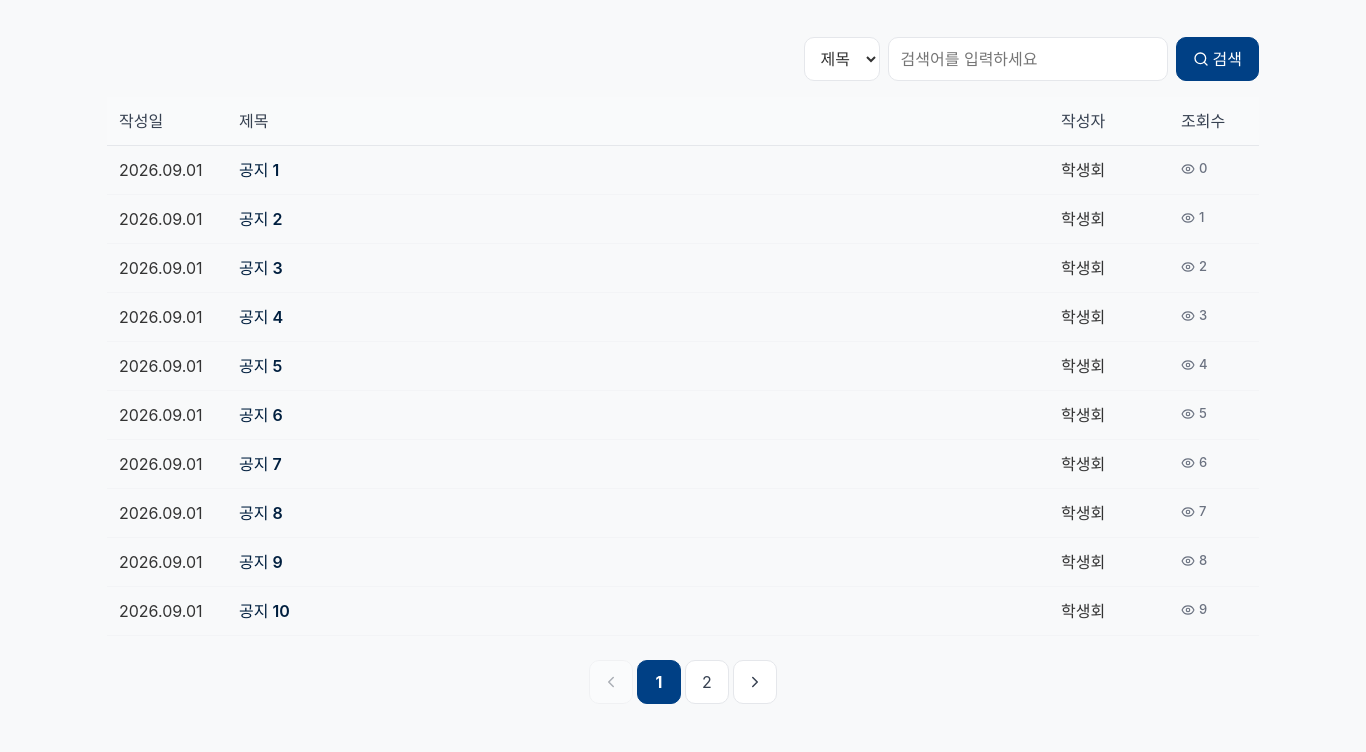
Test case: NoticePage › search by title resets to page 1
(page scrolled)
Click the button "2" at (707, 682), box [685,660,729,704]
(page scrolled)
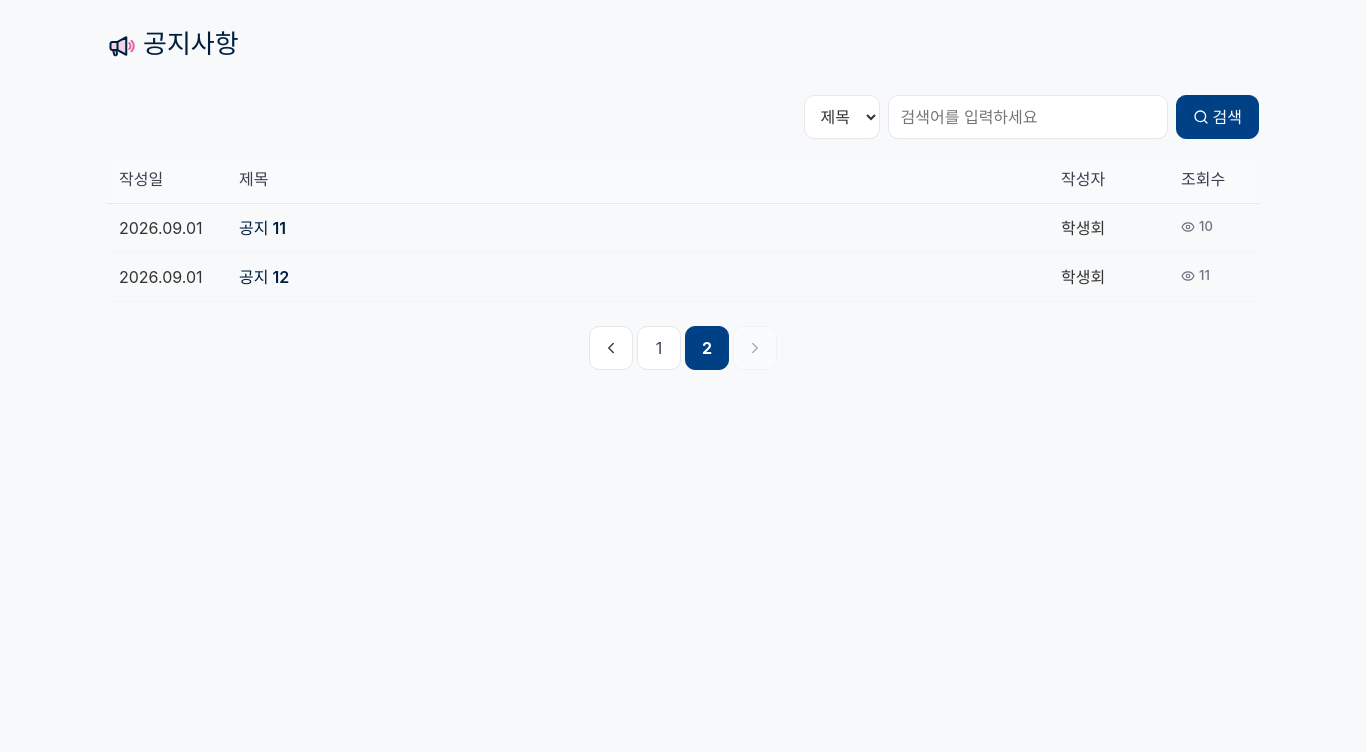
Type "공지 1" into the field with placeholder "검색어를 입력하세요" at (1028, 117), box [888,95,1168,139]
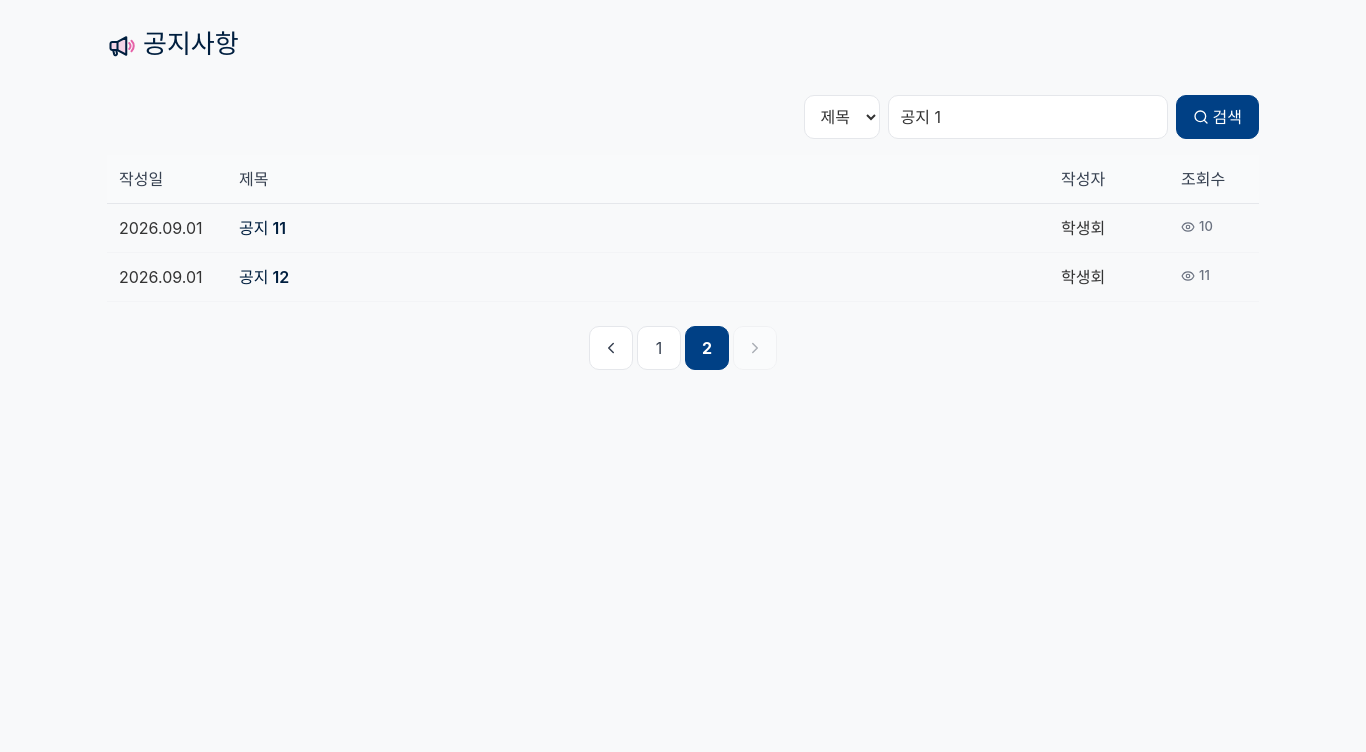
Click the button "검색" at (1217, 117), box [1176,95,1259,139]
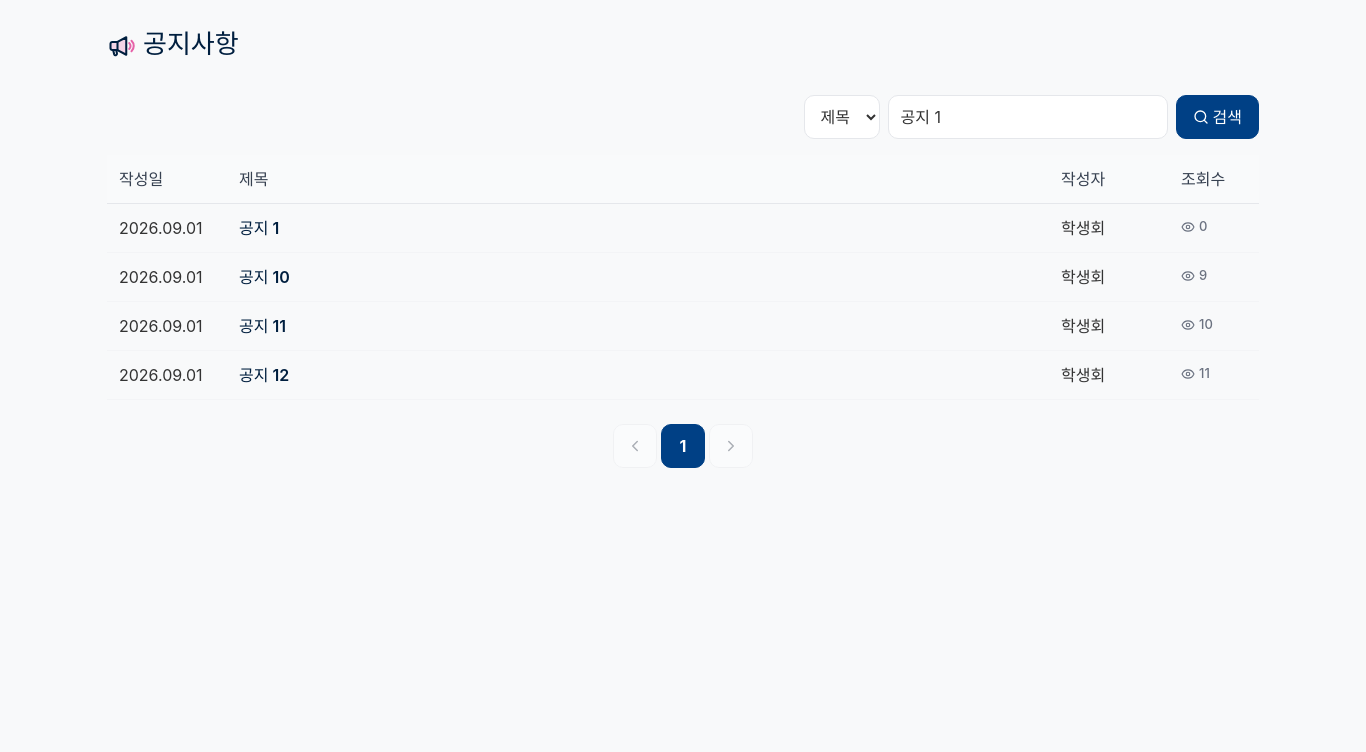
Now the button "1" is marked as current, box [661,424,705,468]
Replace the text in the field with placeholder "검색어를 입력하세요" with "zzz" at (1028, 117), box [888,95,1168,139]
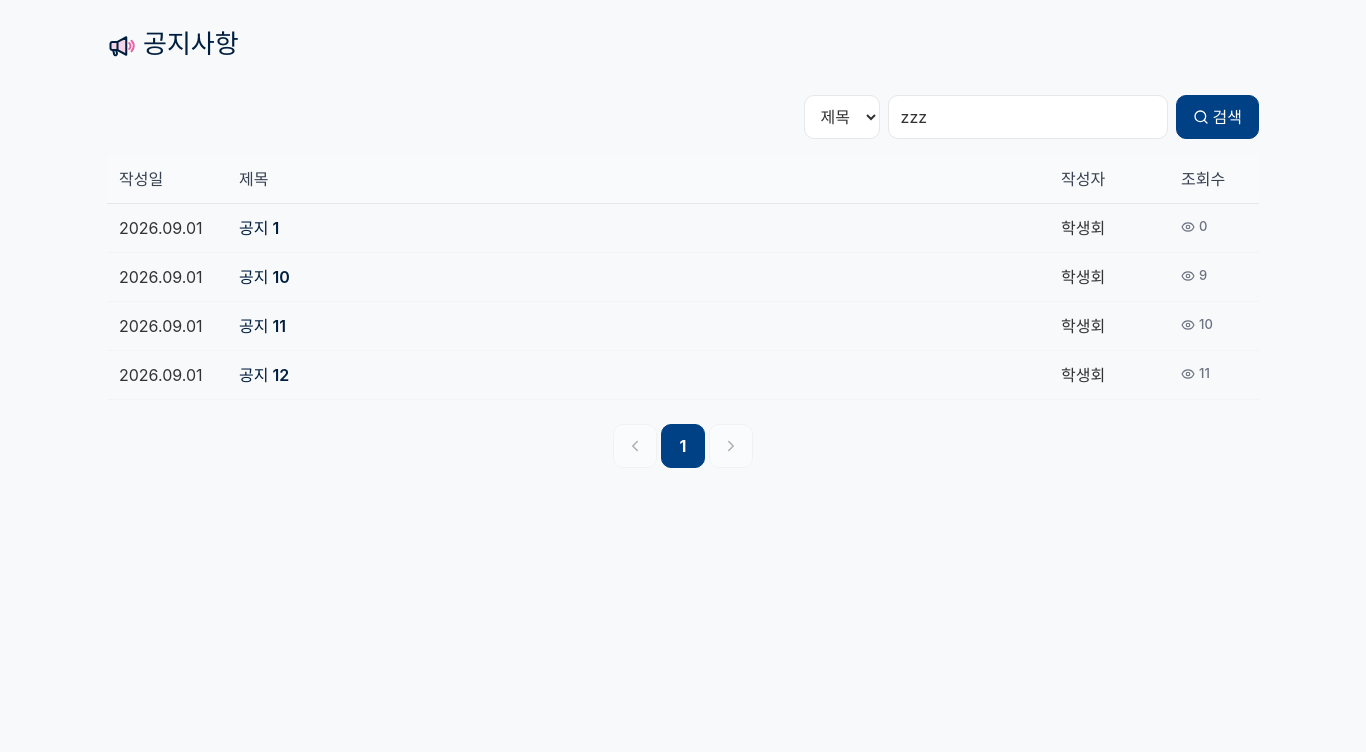
Click the button "검색" at (1217, 117), box [1176,95,1259,139]
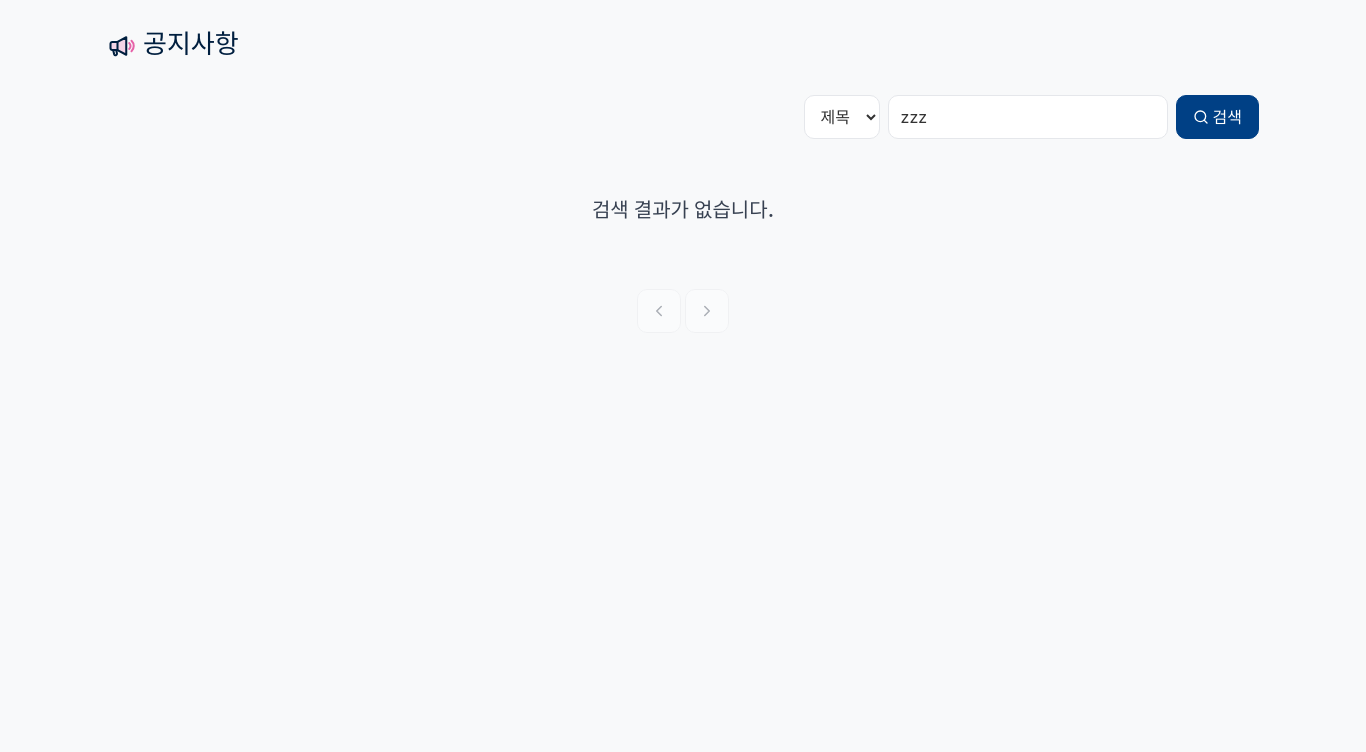
Now the text "검색 결과가 없습니다." is shown, box [592,195,774,225]
